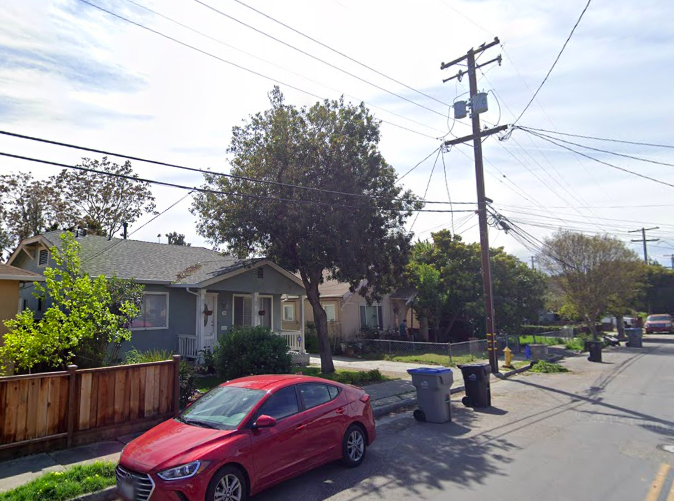tree: (188, 84, 426, 377)
